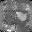people: (16, 12, 27, 22)
